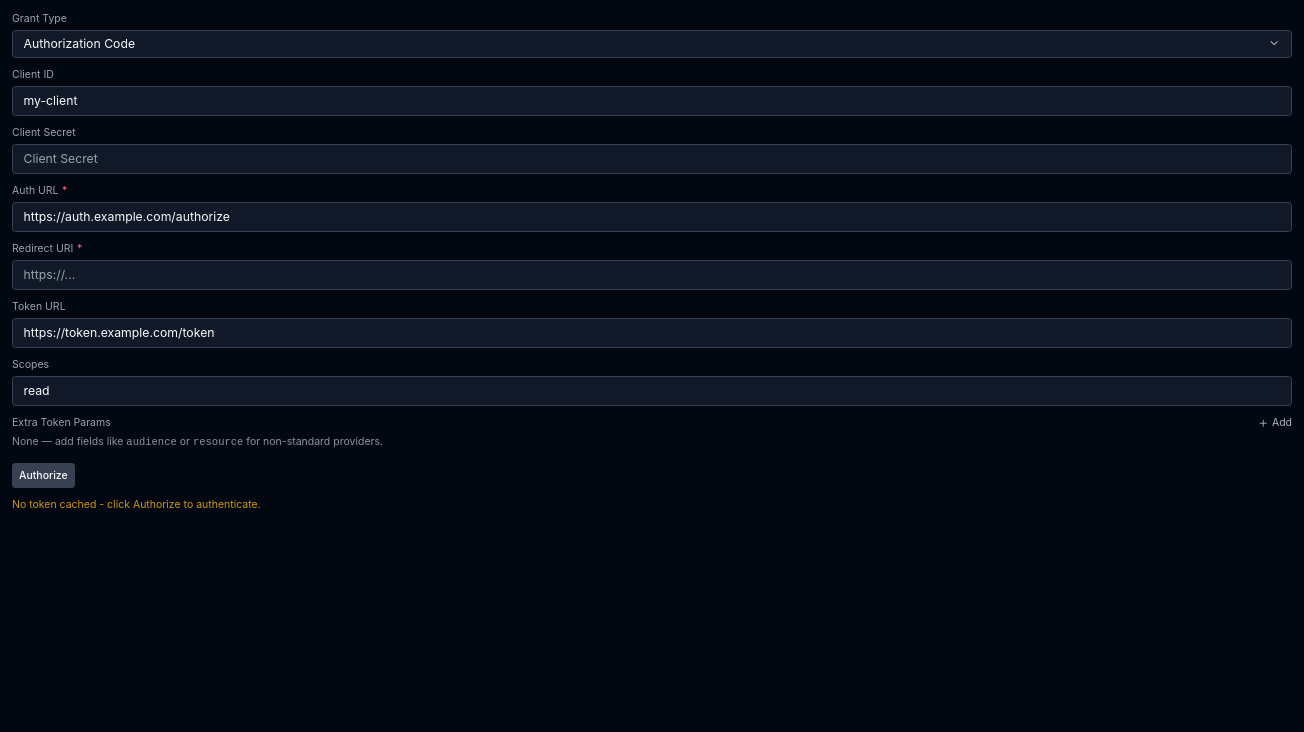
OAuthPanel › pre-flight validation › shows error when redirectUri is blank for authorization_code flow
Click the button "Authorize": (43,476) [12,463,75,488]
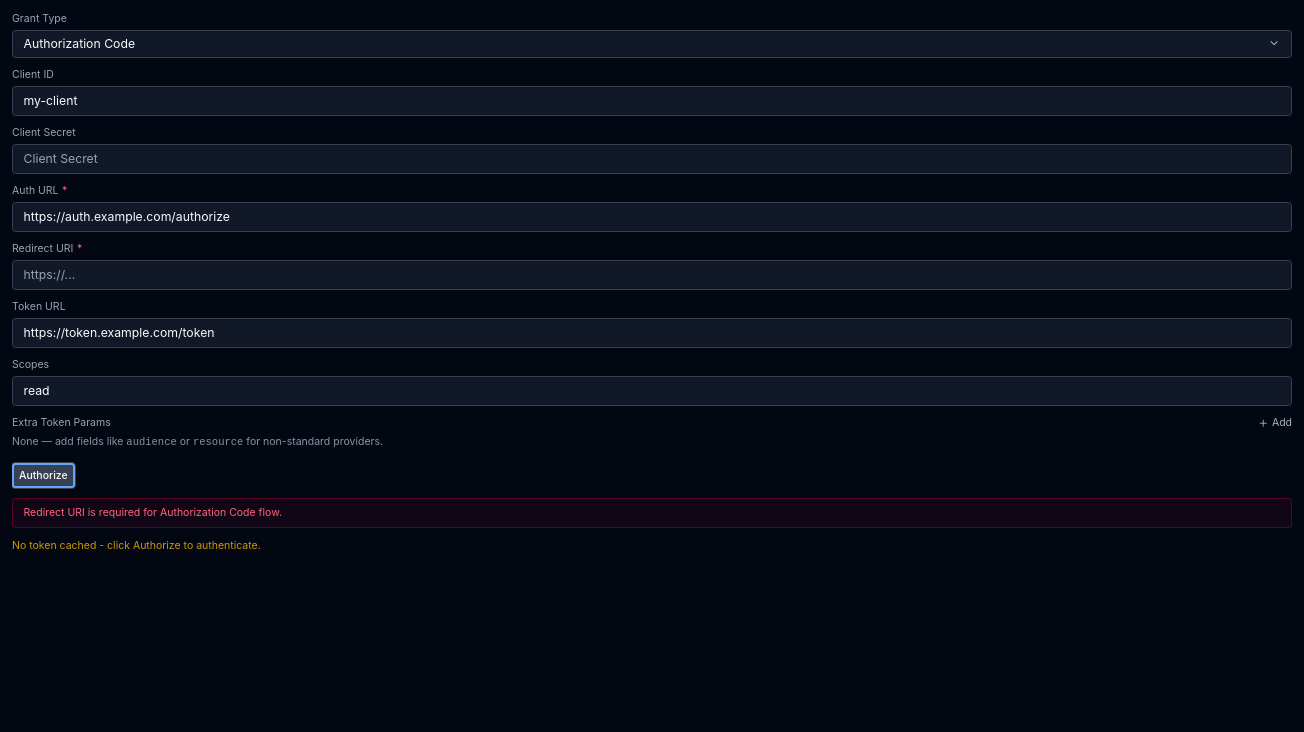
Expected: the text "Redirect URI is required for Authorization Code flow." is shown, [12,498,1292,528]
